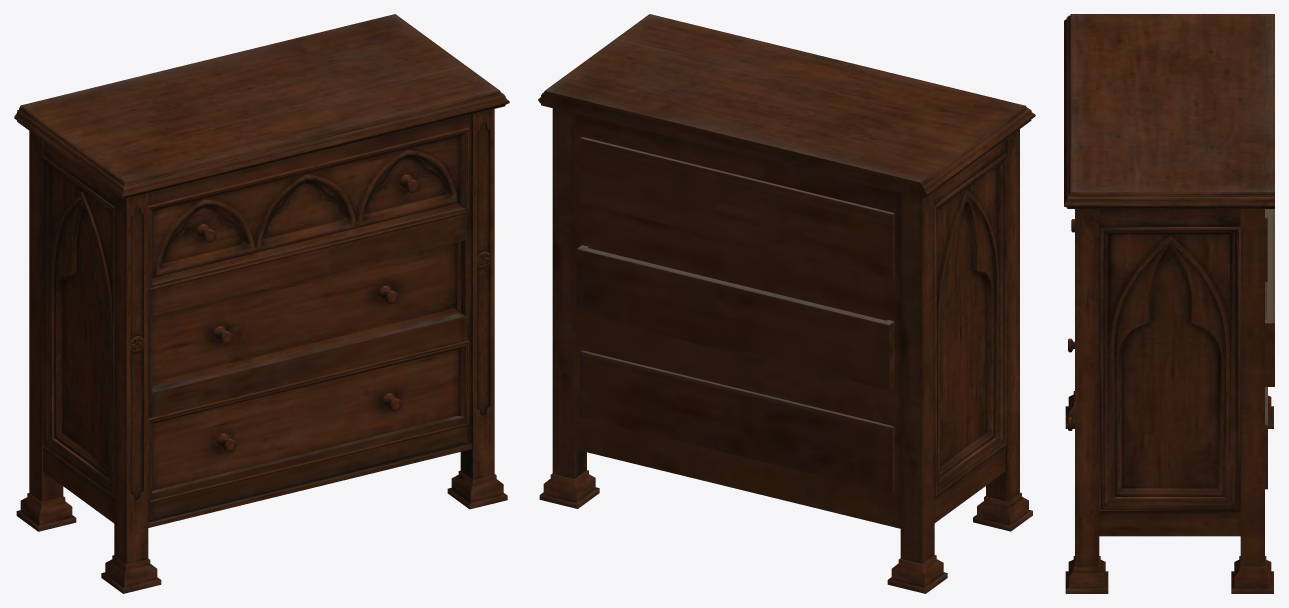
File: ph_GothicCommode_01.glb
3 renders of one model, left to right at view 1: azimuth 30°, elevation 25°; view 2: azimuth 150°, elevation 25°; view 3: azimuth 270°, elevation 25°, orthographic. The views are drawn at different scales.
Parts seen in each view (by area): view 1: GothicCommode_01; view 2: GothicCommode_01; view 3: GothicCommode_01.
Part boxes in pixels (<box>): GothicCommode_01: <box>14,14,509,593</box>; GothicCommode_01: <box>538,14,1035,593</box>; GothicCommode_01: <box>1064,14,1274,593</box>.
Size of the model in its own units: 1.2 by 1.21 by 0.5807.
1 material, 1 textured.
